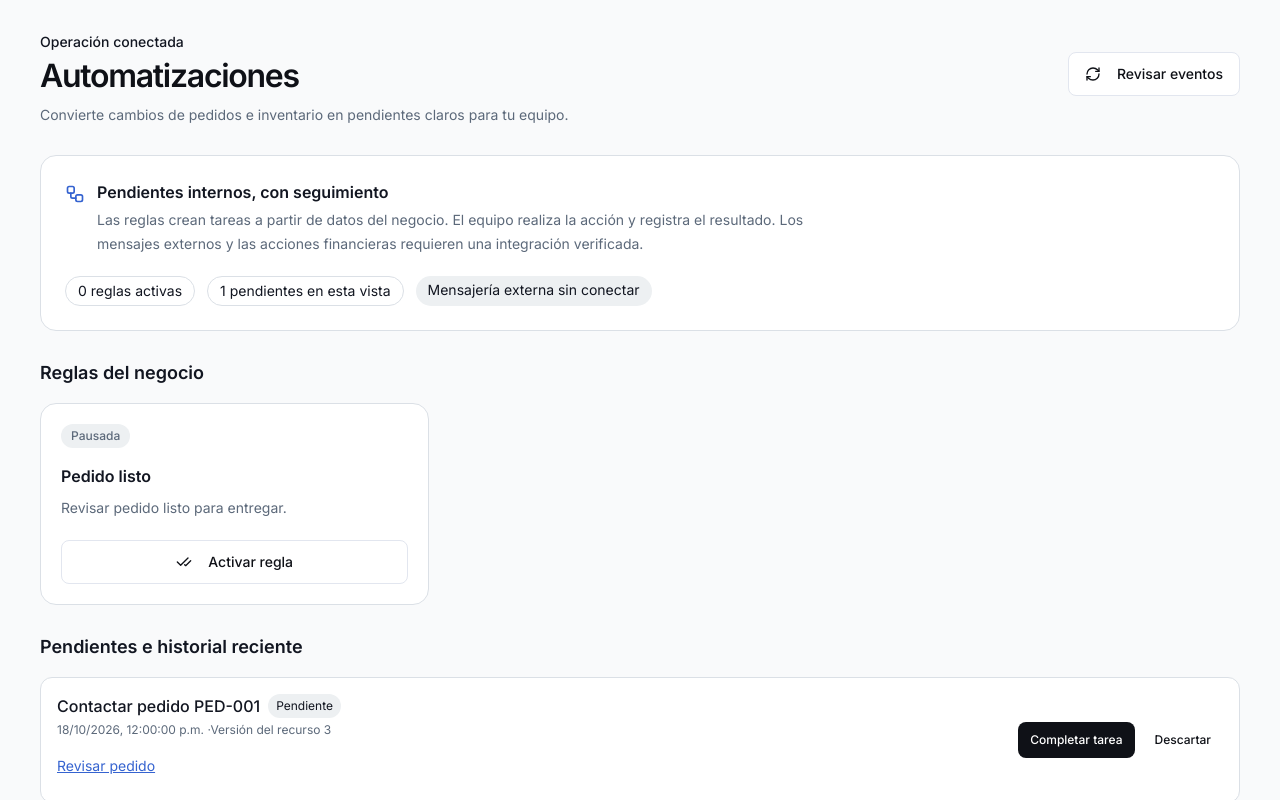
Test case: resolves a pending task with its version without executing a financial action
Click the button with aria-label "Completar Contactar pedido PED-001".
click(1076, 740)  # box [1018, 722, 1134, 758]
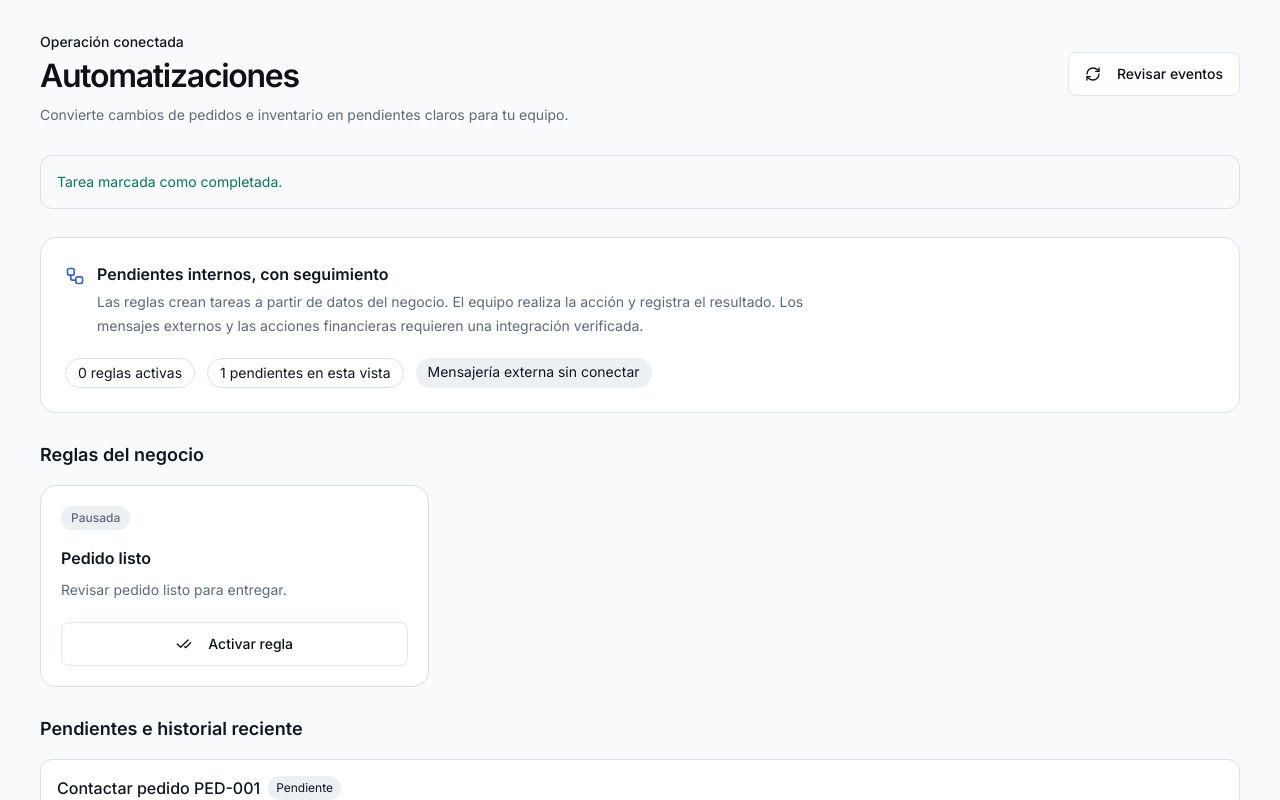
Now the text "Tarea marcada como completada." is shown, box [40, 155, 1240, 209]
